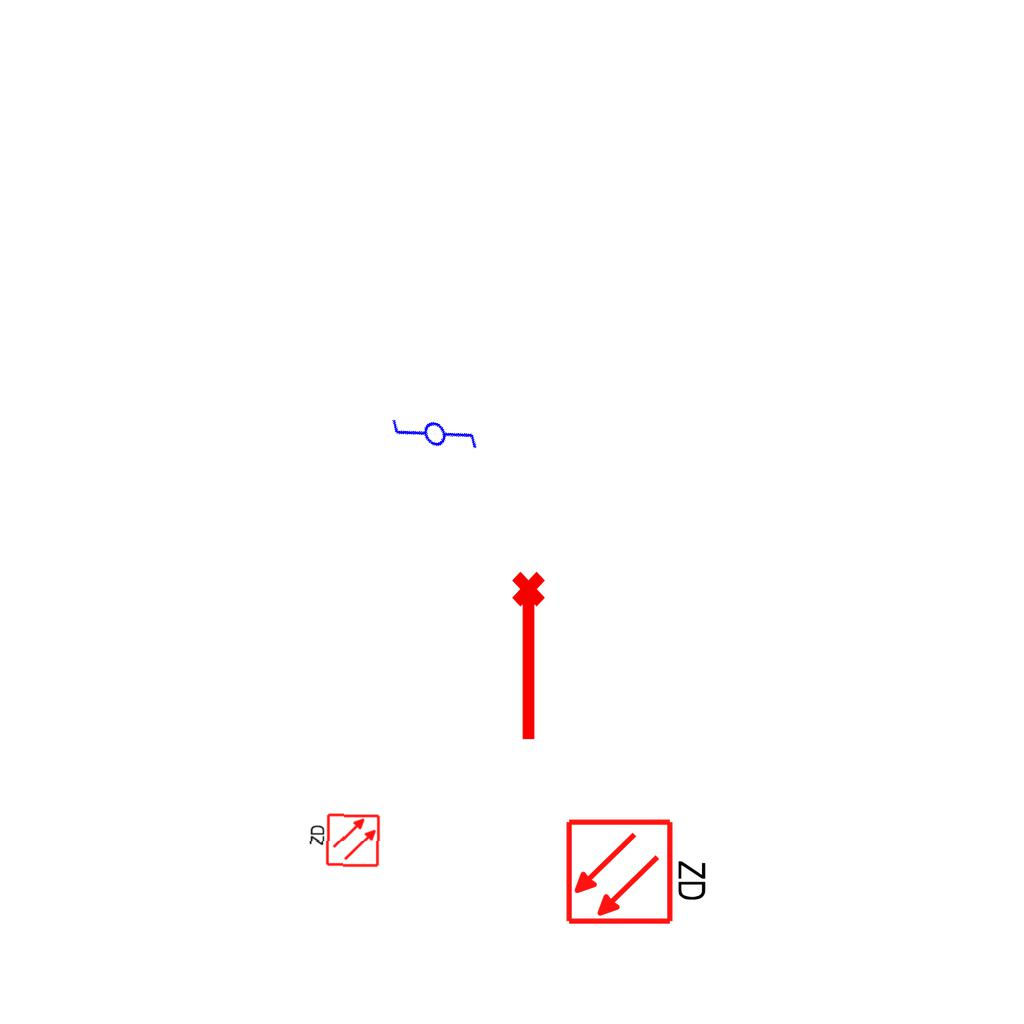ASR_Ansaugoeffnung: (508, 569, 554, 745)
Wechselschalter: (385, 386, 487, 490)
ZD_Melder_in_Zwischendecke_mit_Revisionsoeffnung_mind_40_x_40_cm: (564, 813, 713, 927), (306, 811, 381, 871)
